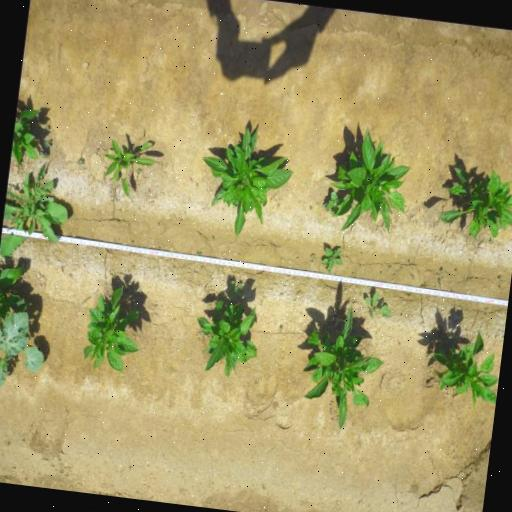plant: (192, 115, 302, 243), (295, 306, 389, 435), (331, 123, 413, 235), (422, 321, 505, 415), (78, 280, 150, 378), (435, 160, 512, 245), (188, 296, 264, 382), (102, 127, 156, 199), (10, 104, 46, 170), (0, 260, 31, 328)
weed: (0, 162, 75, 267), (0, 310, 52, 393), (359, 287, 395, 323), (318, 242, 344, 274), (322, 188, 344, 215), (223, 277, 247, 301), (42, 134, 53, 148), (76, 156, 86, 167), (38, 150, 50, 159), (134, 166, 142, 175), (277, 323, 284, 333), (194, 250, 204, 256), (310, 252, 316, 260), (488, 238, 494, 245), (440, 268, 446, 274), (438, 278, 443, 285)
